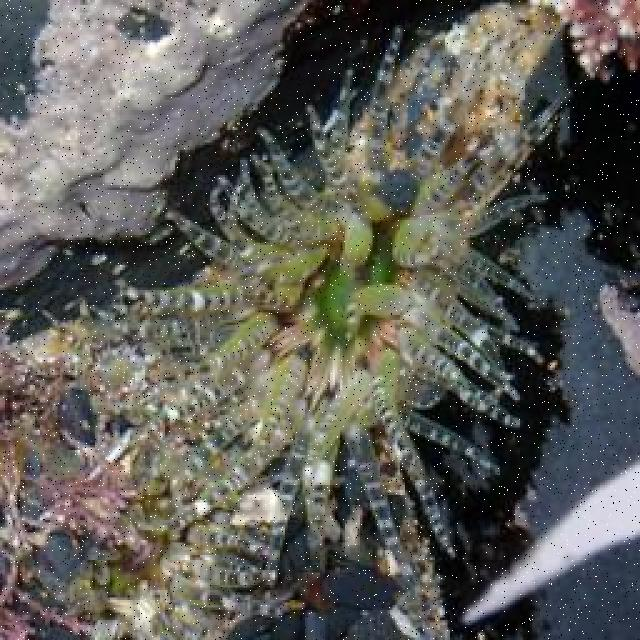reefs: (90, 22, 581, 638)
